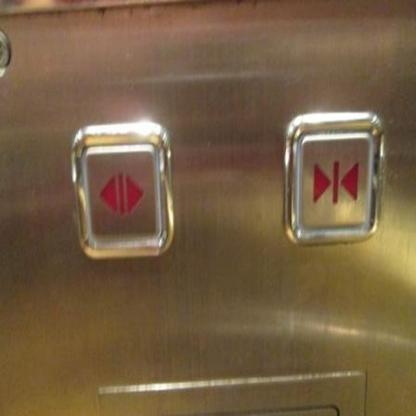close: (282, 108, 382, 248)
open: (69, 120, 175, 262)
